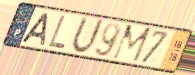7: (140, 30, 171, 65)
9: (93, 22, 124, 58)
A: (20, 11, 51, 47)
L: (47, 14, 67, 51)
M: (110, 24, 153, 64)
U: (69, 15, 105, 55)
